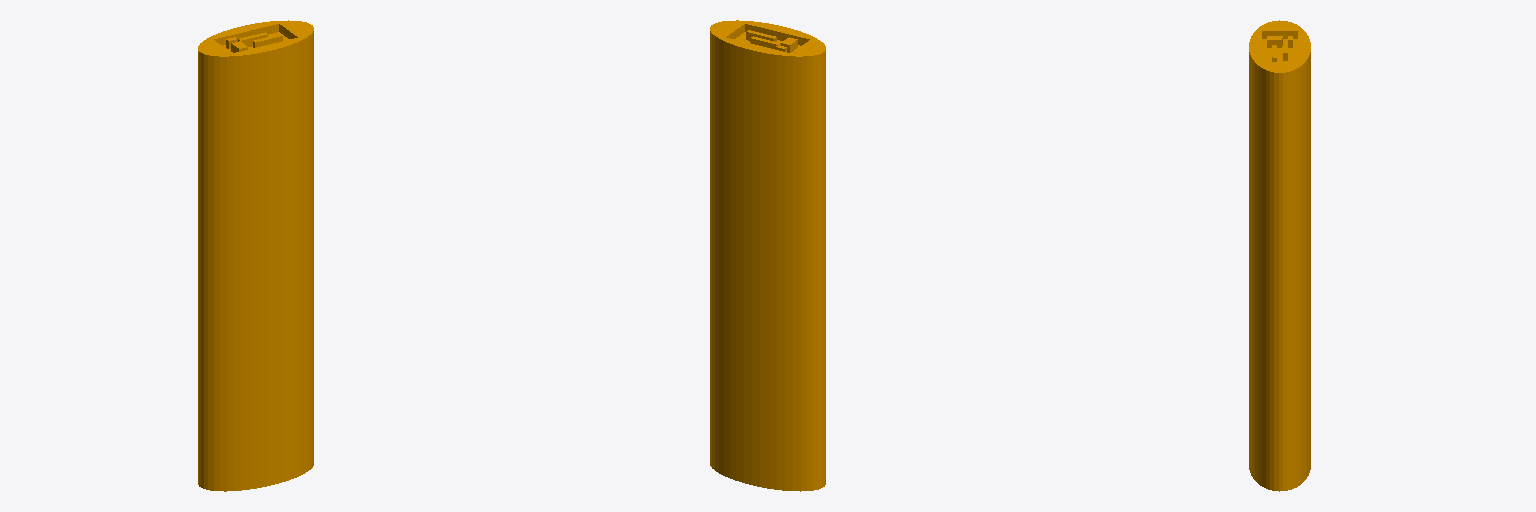
robot.urdf — 20_r_circle:
<?xml version="1.0" ?>
<robot name="20_r_circle">

    <link name="20_r_circle">
        <visual>
            <origin rpy="1.5707963267948966 0 0" xyz="0 0 0"/>
            <geometry>
                <mesh filename="Shapes/20_r_circle.obj" scale="0.707 1 0.3535"/>
            </geometry>
        </visual>
        <collision>
            <origin rpy="1.5707963267948966 0 0" xyz="0 0 0"/>
            <geometry>
                <mesh filename="Shapes/20_r_circle.obj" scale="0.707 1 0.3535"/>
            </geometry>
        </collision>
        <inertial>
            <mass value="0.3"/>
            <inertia ixx="0.000029435425" ixy="0.0" ixz="0.0" iyy="0.000029435425" iyz="0.0" izz="0.00000725805"/>
        </inertial>
    </link>

</robot>

--- What the picture shows (computed from the rendered views, not written in the file) ---
Views: 3 orthographic renders of the robot side by side, from view 1: azimuth 30°, elevation 25°; view 2: azimuth 150°, elevation 25°; view 3: azimuth 270°, elevation 25°.
Model 20_r_circle with 1 links and 0 joints (none), rooted at 20_r_circle, posed every joint at zero.
Visible links, largest first — view 1: 20_r_circle; view 2: 20_r_circle; view 3: 20_r_circle.
Link boxes in pixels (bbox=[...]): 20_r_circle: bbox=[198, 20, 313, 491]; 20_r_circle: bbox=[710, 20, 825, 491]; 20_r_circle: bbox=[1249, 20, 1310, 491].
Bounding box of the posed robot: 0.0283 × 0.0141 × 0.105 m (x, y, z).
Meshes: 1 distinct files referenced, 1 mesh visuals loaded (1 OBJ).
